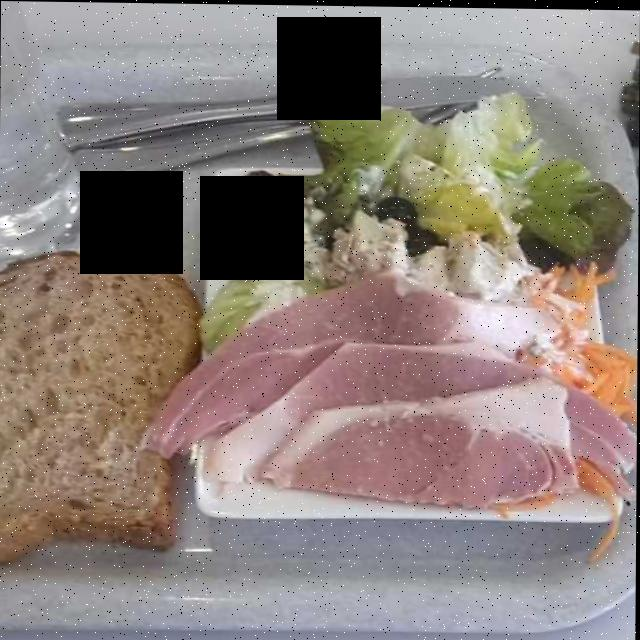bread-wholemeal: (0, 252, 197, 551)
carrot-raw: (525, 259, 627, 398)
potato-salad-with-mayonnaise-yogurt-dressing: (237, 220, 516, 336)
salad-leaf-salad-green: (211, 87, 603, 353)
water: (10, 50, 75, 253)
